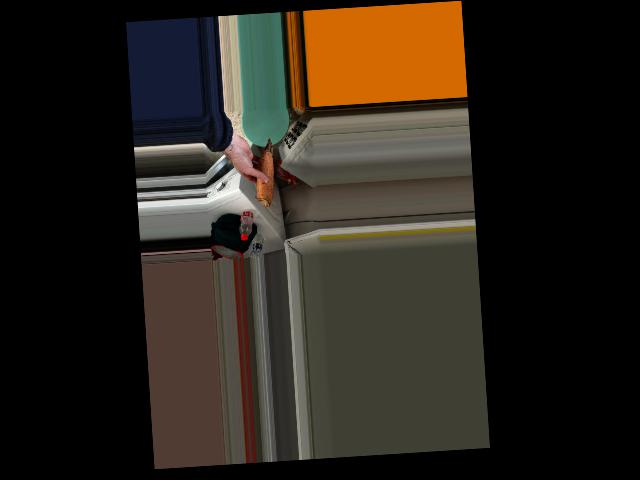sweet_potato: (252, 138, 281, 204)
